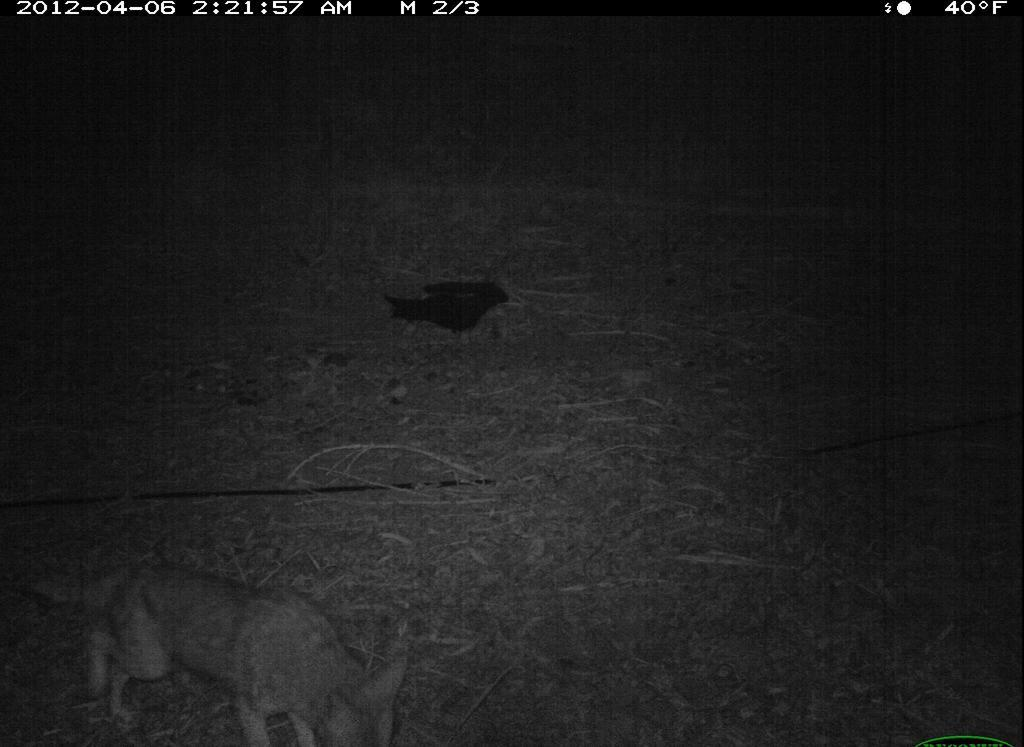coyote: (34, 552, 415, 747)
